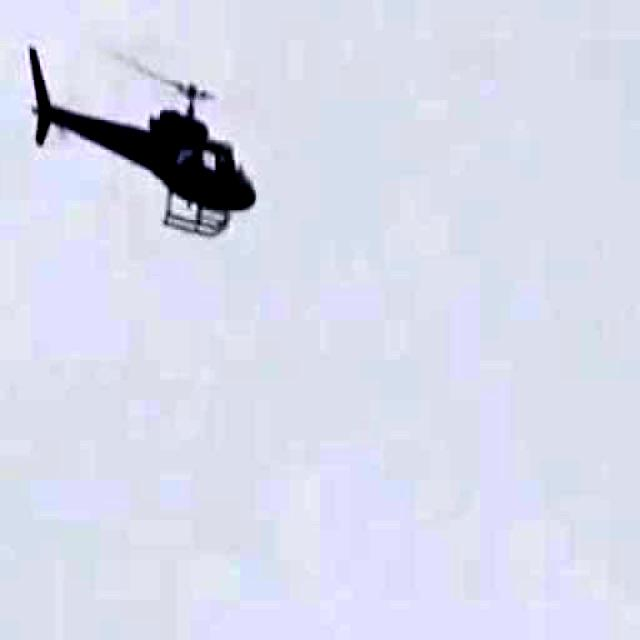drone: (9, 26, 265, 268)
